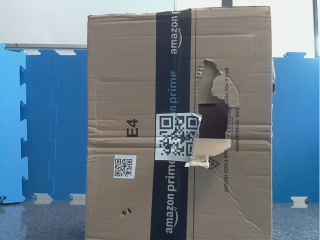caja_rota: (87, 6, 270, 240)
